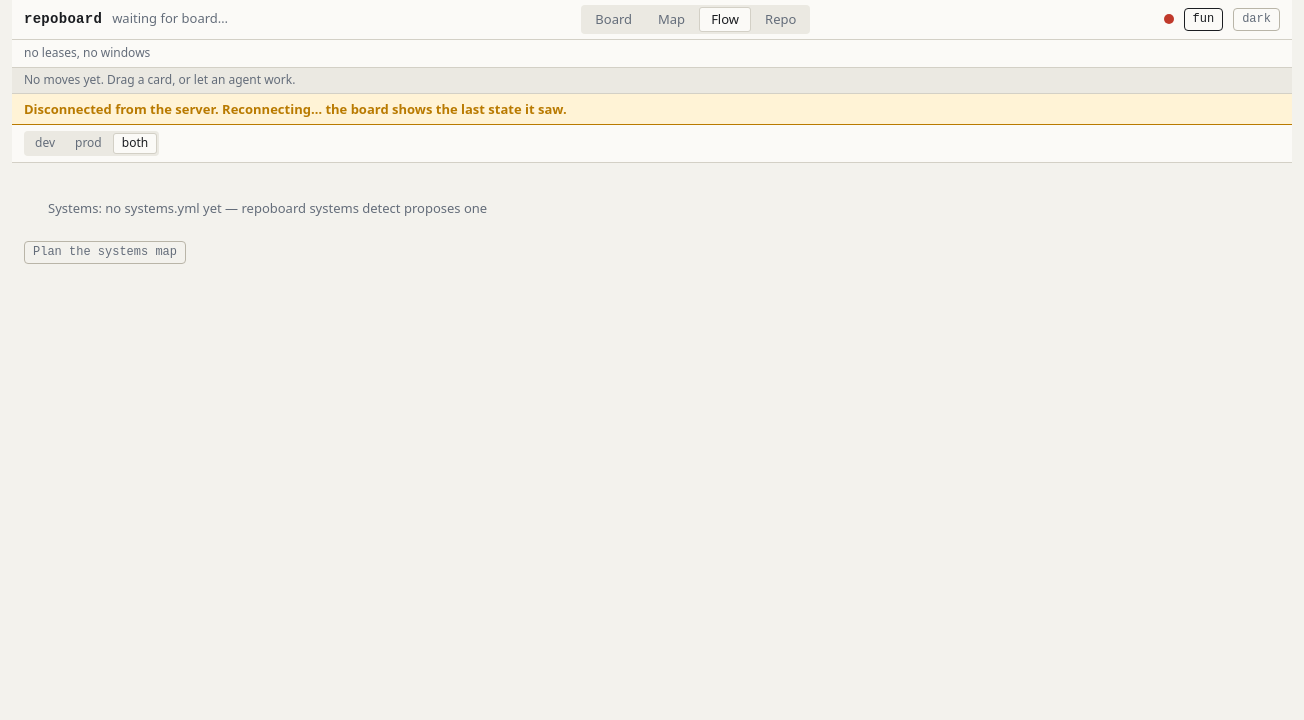
Flow view (RCB-98) › 8. no systems.yml + hasBoard: the "Plan the systems map" button confirms inline, then creates via POST /api/systems/plan
The width and height of the screenshot is (1304, 720).
Check: the text with test id "flow-no-file" is shown, box [48,199,494,217]
Click the button with test id "flow-plan" at (105, 252), box [24,241,186,264]
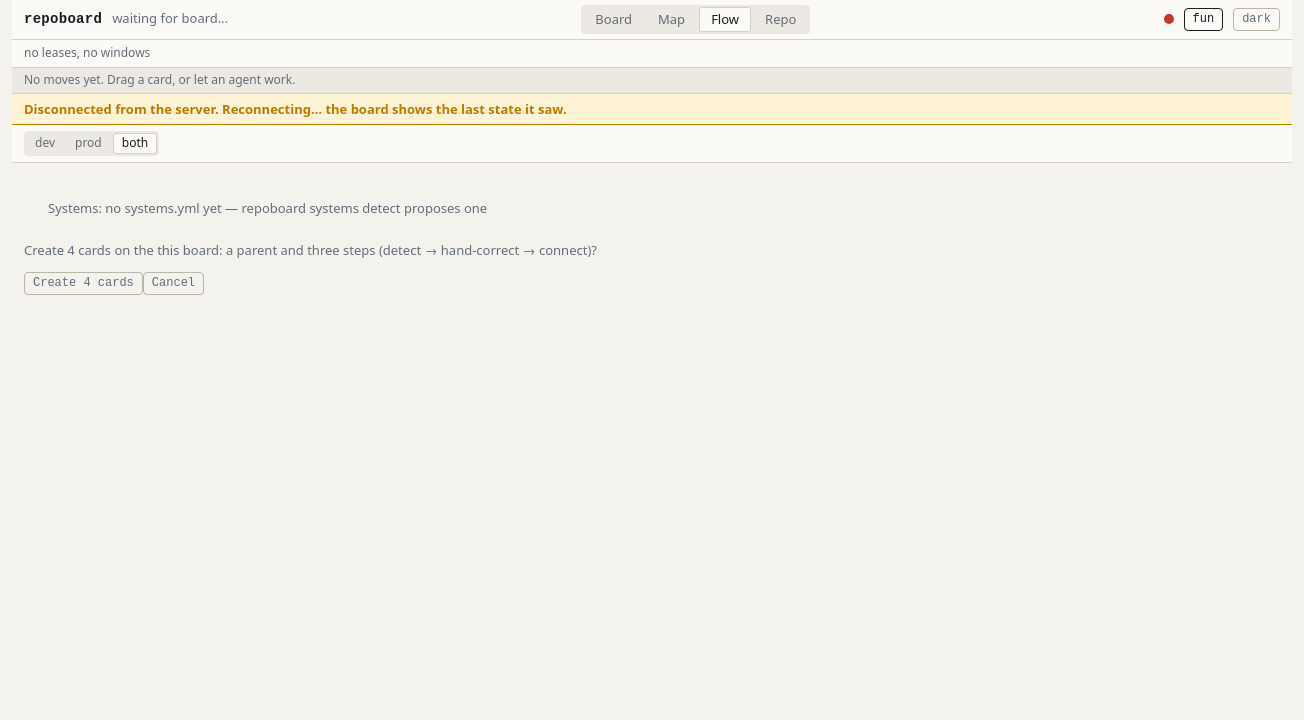
Check: the element with test id "flow-plan-confirm" shows "Create 4 cards", box [24,272,143,295]
Click the button "Cancel" at (173, 284), box [143,272,204,295]
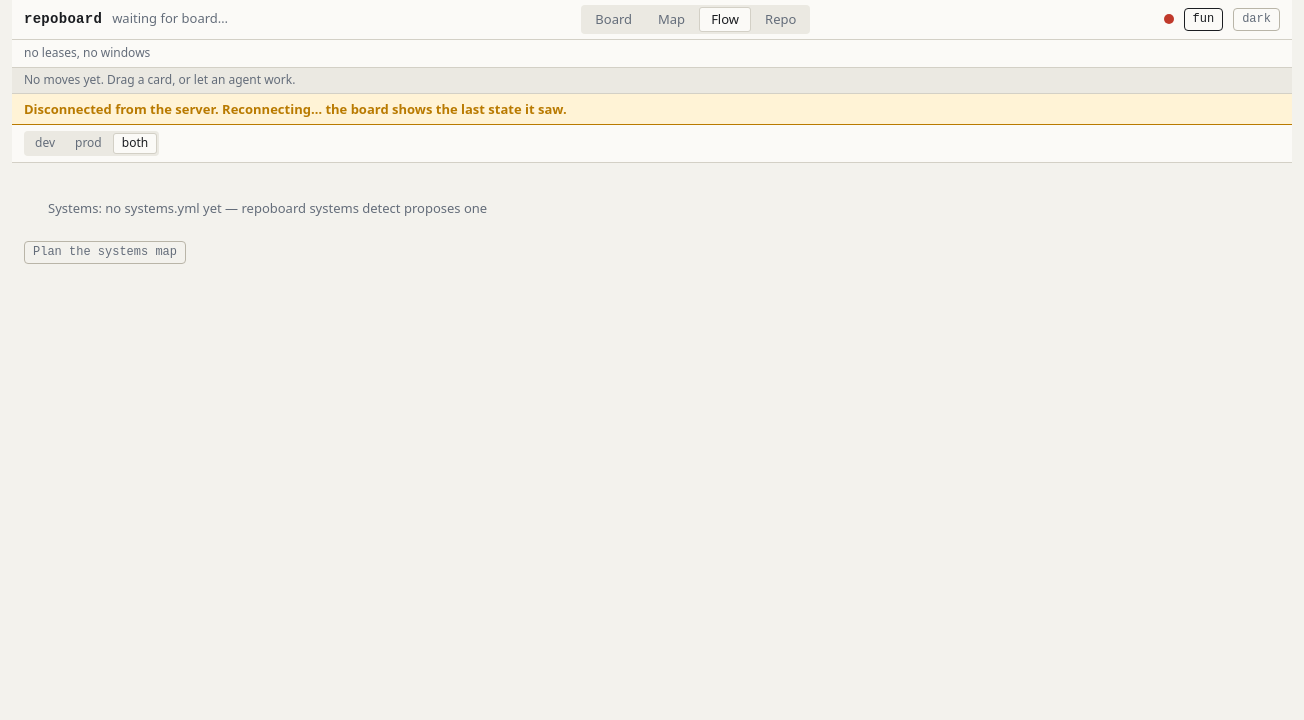
Check: the element with test id "flow-plan-confirm" is gone
Check: the button with test id "flow-plan" is shown
Click the button with test id "flow-plan" at (105, 252), box [24,241,186,264]
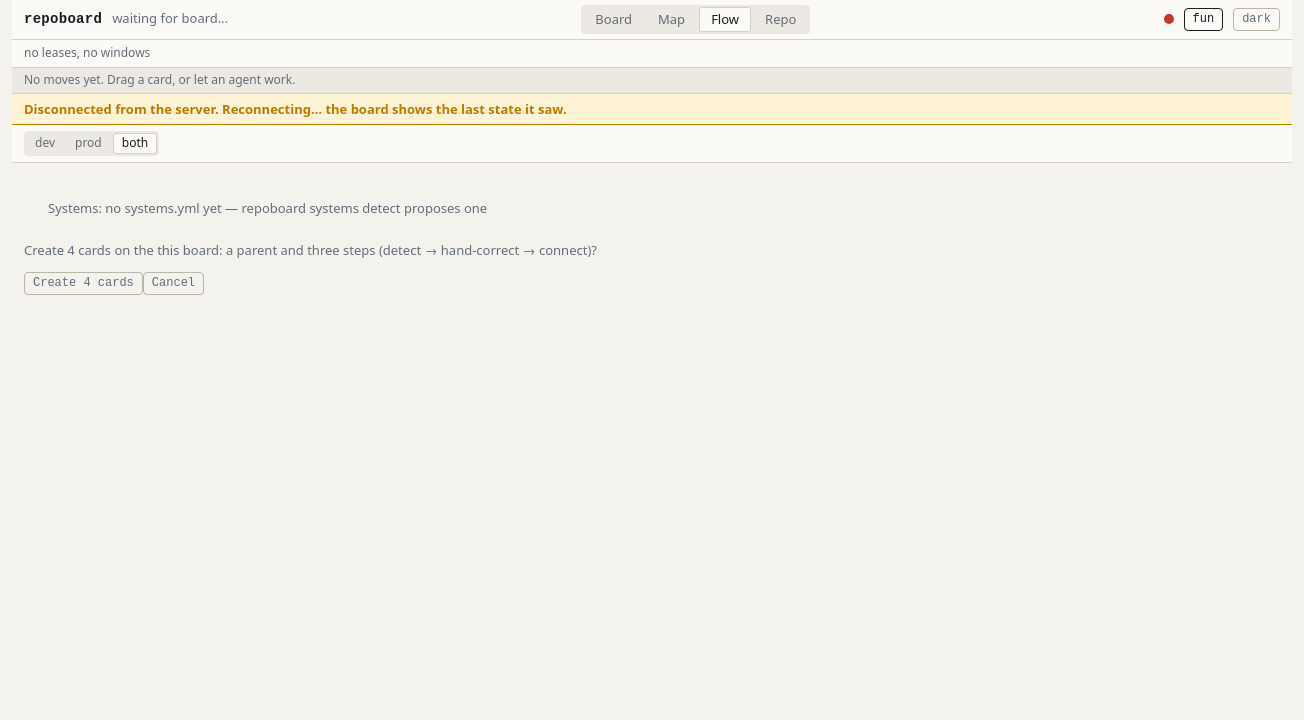
Click the button "Create 4 cards" at (83, 284), box [24,272,143,295]
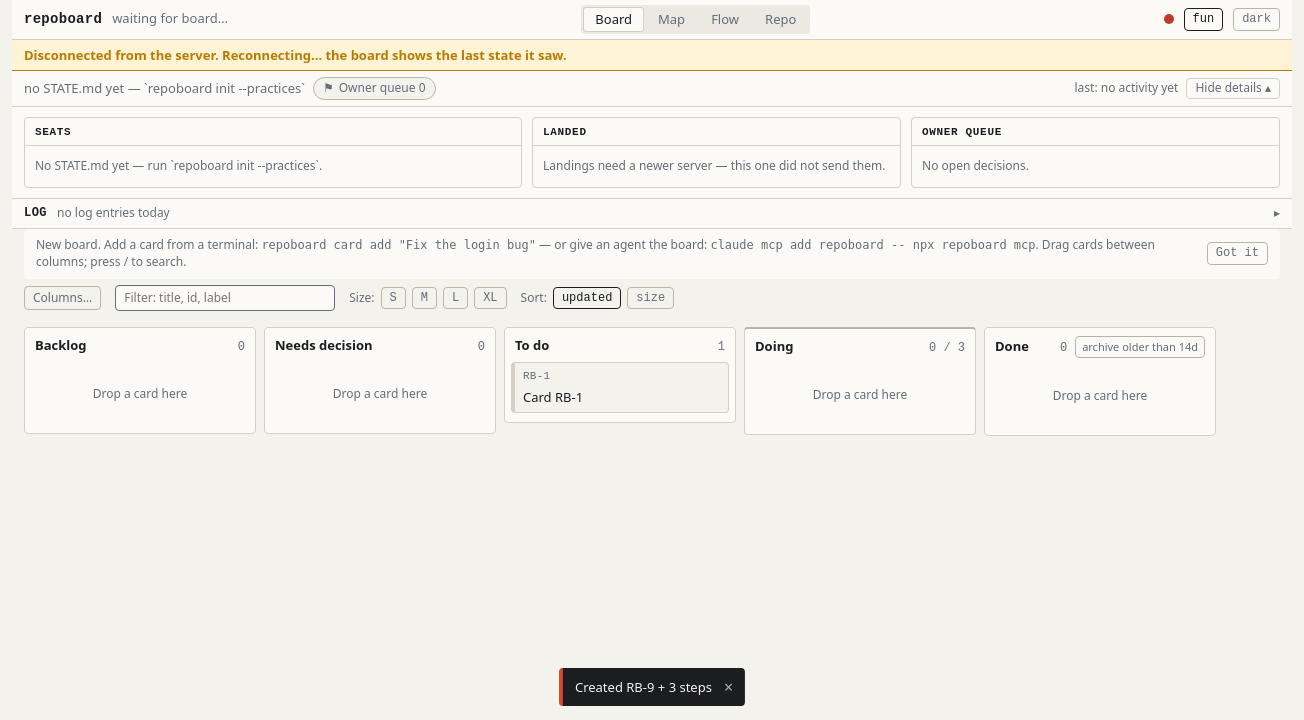
Check: the element with test id "board" is shown, box [24,327,1216,436]
